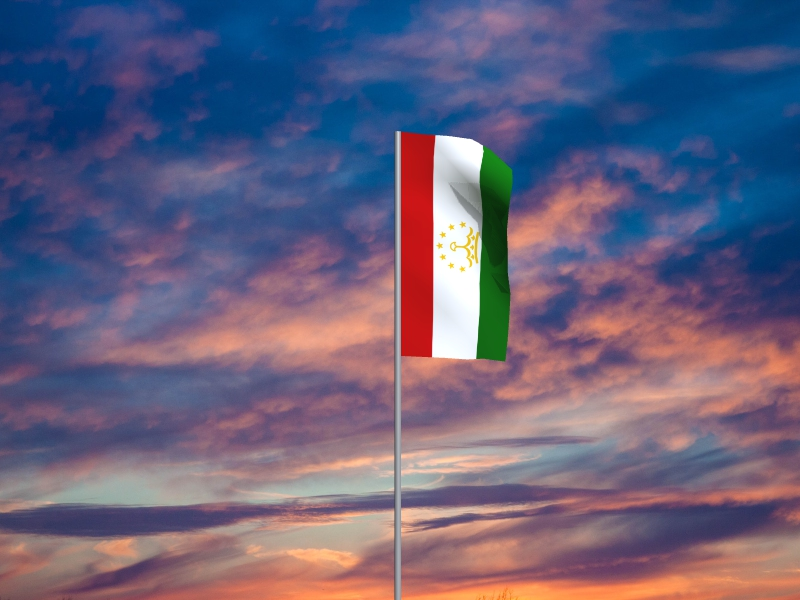tj: (400, 132, 514, 363)
